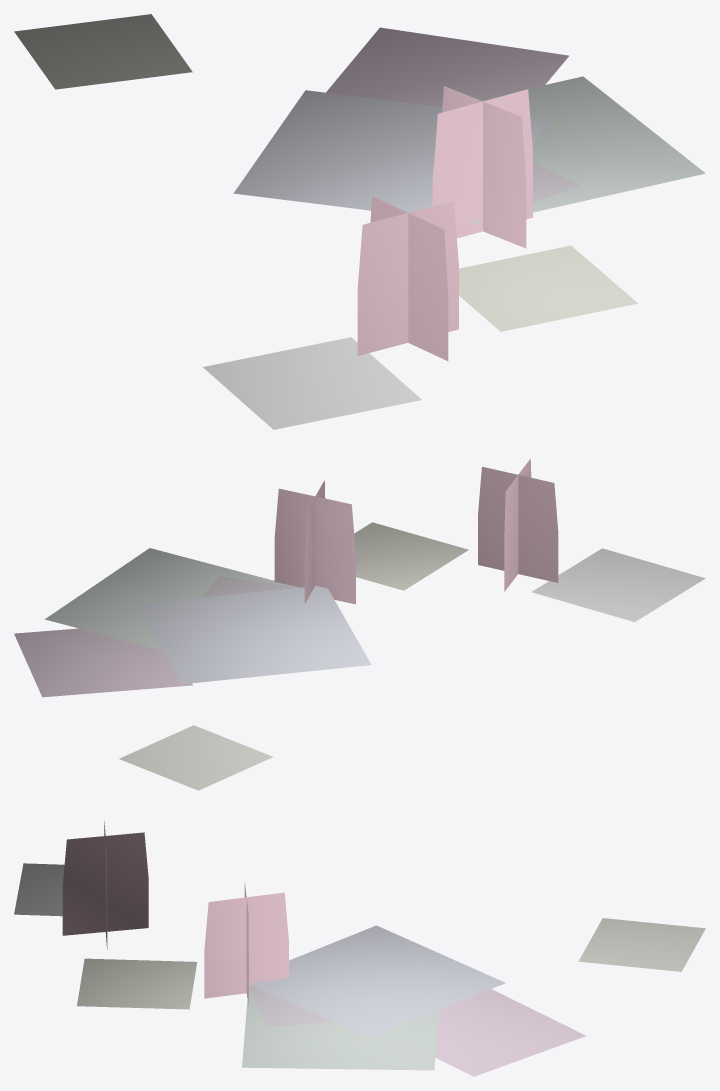
File: lily_2.glb
The picture shows the model from 3 angles, top to bottom: view 1: azimuth 30°, elevation 25°; view 2: azimuth 150°, elevation 25°; view 3: azimuth 270°, elevation 25°; orthographic projection. The views are drawn at different scales.
Visible parts, largest first — view 1: lily_2; view 2: lily_2; view 3: lily_2.
Part boxes in pixels (bbox=[...]): lily_2: bbox=[14, 14, 705, 429]; lily_2: bbox=[14, 459, 705, 790]; lily_2: bbox=[14, 821, 705, 1076].
Size of the model in its own units: 0.5808 by 0.12 by 0.7842.
